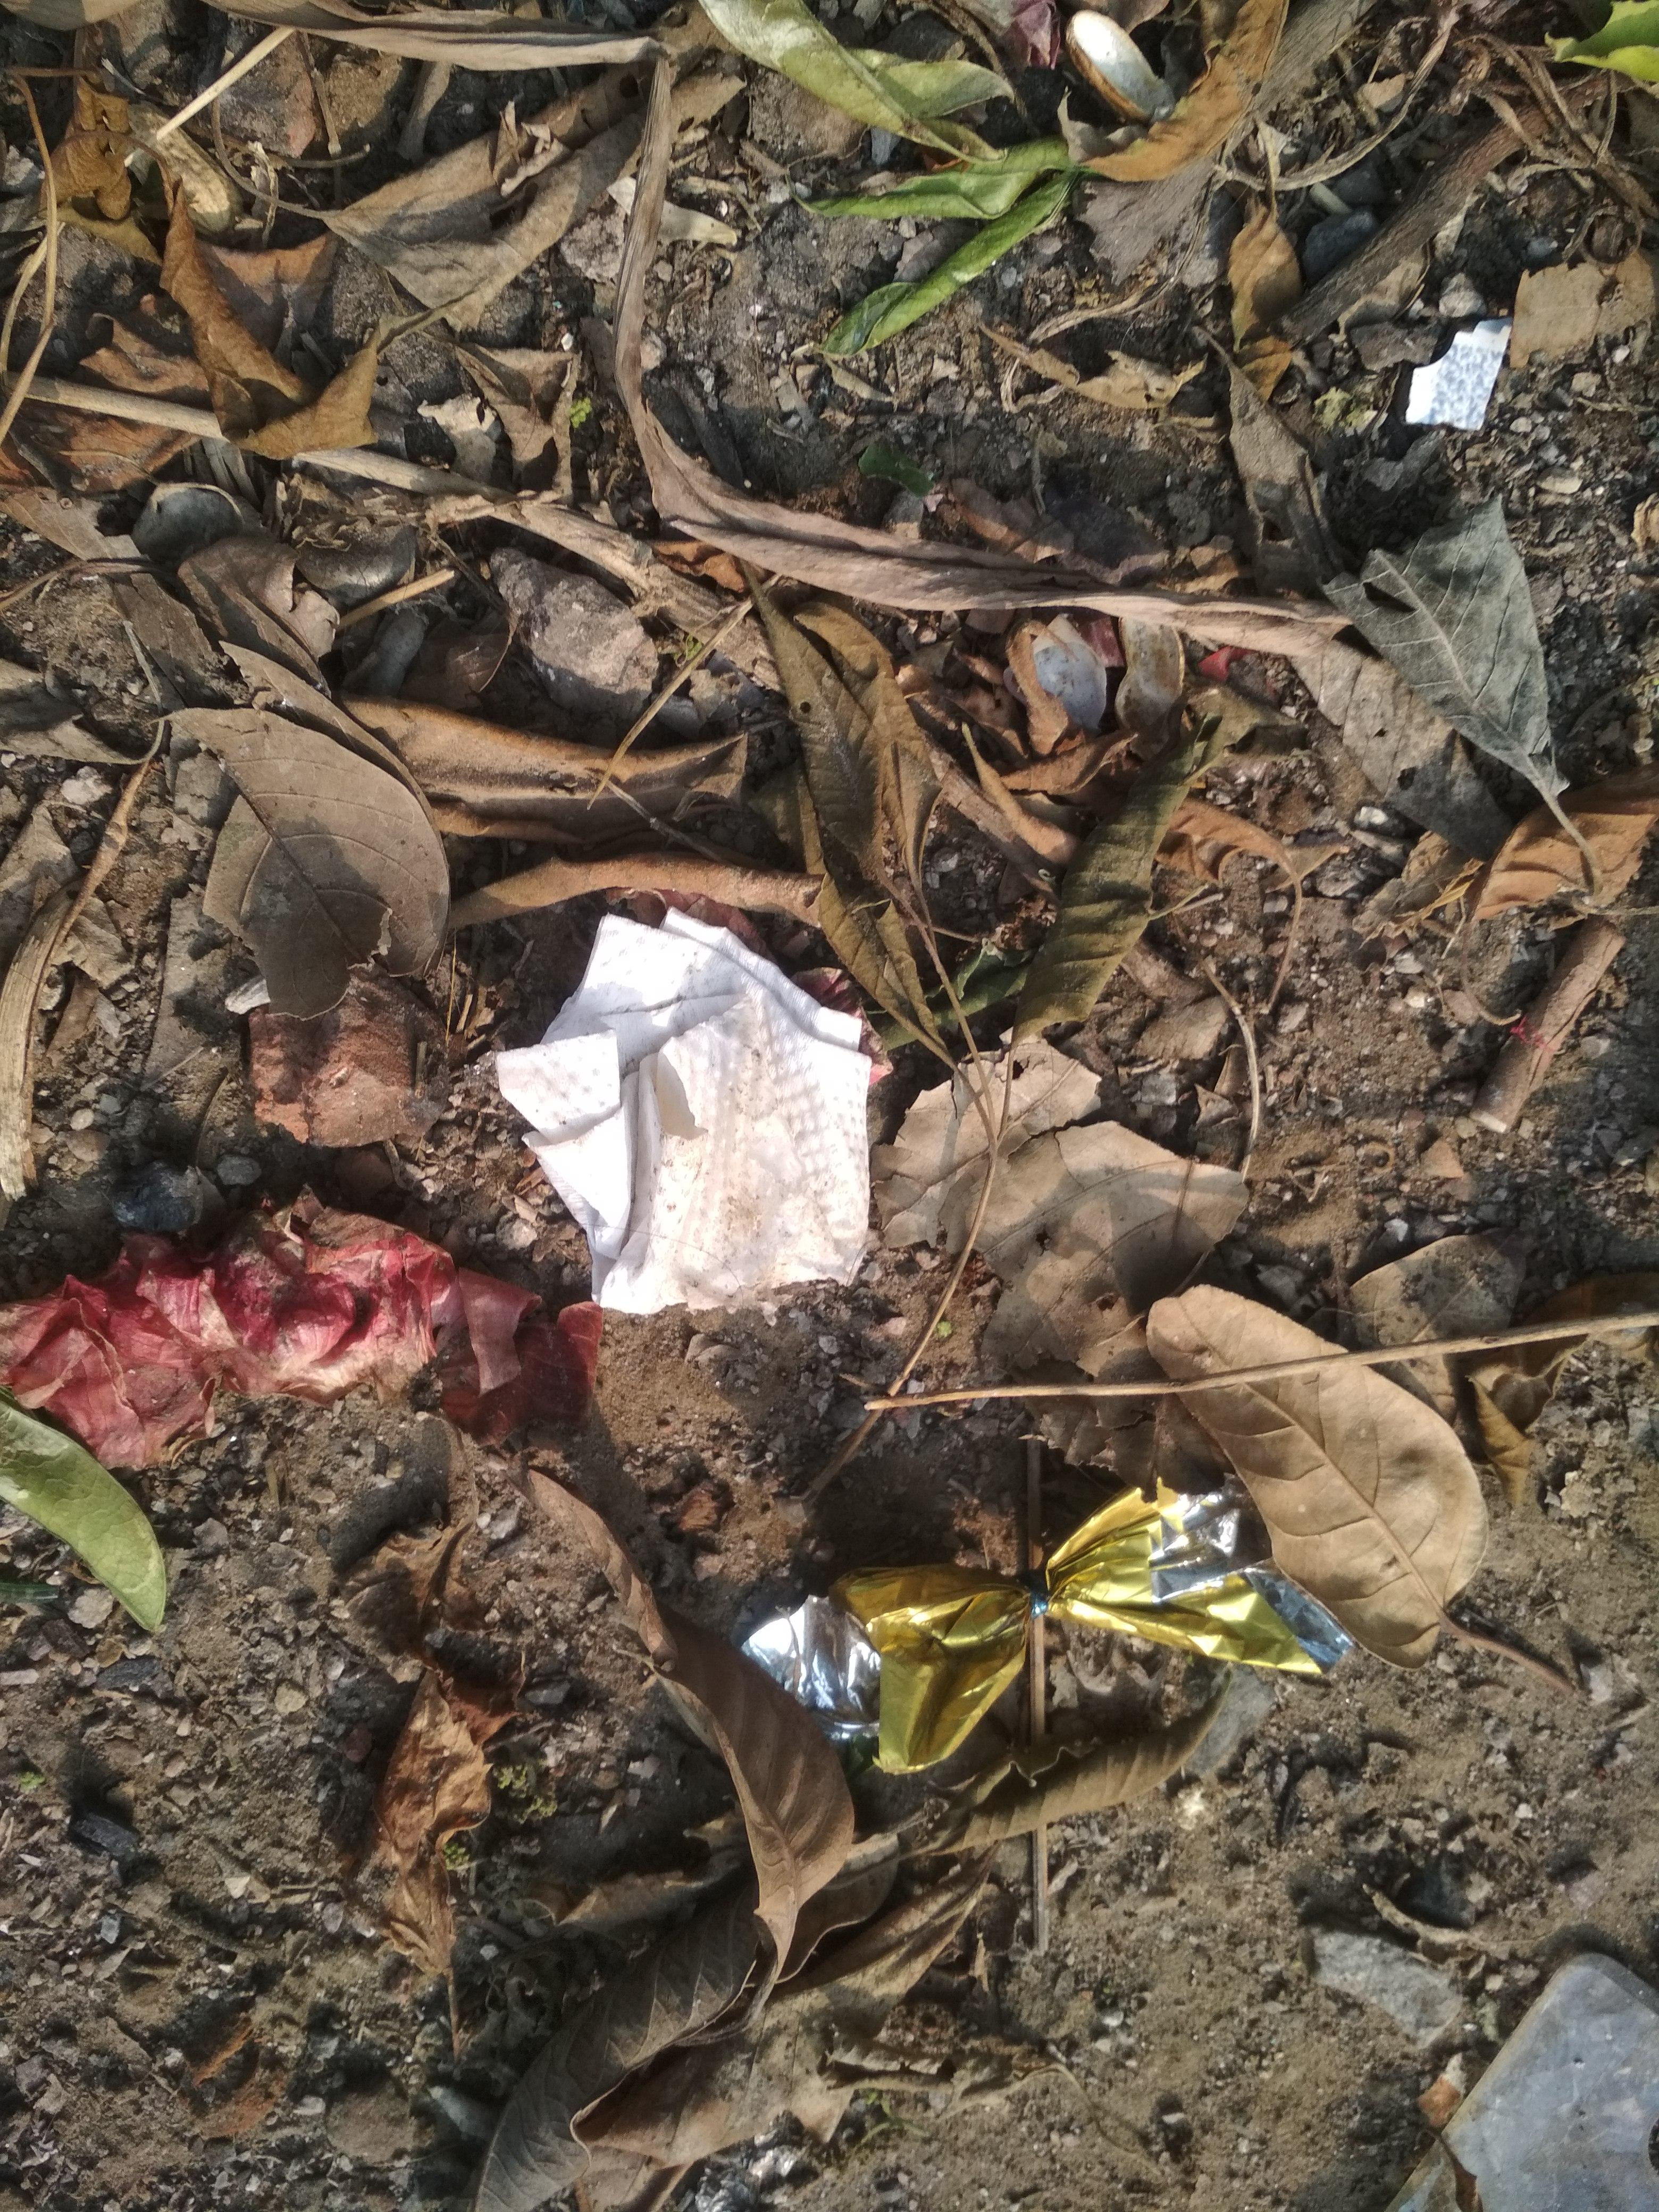trash: (0, 891, 1327, 2192)
